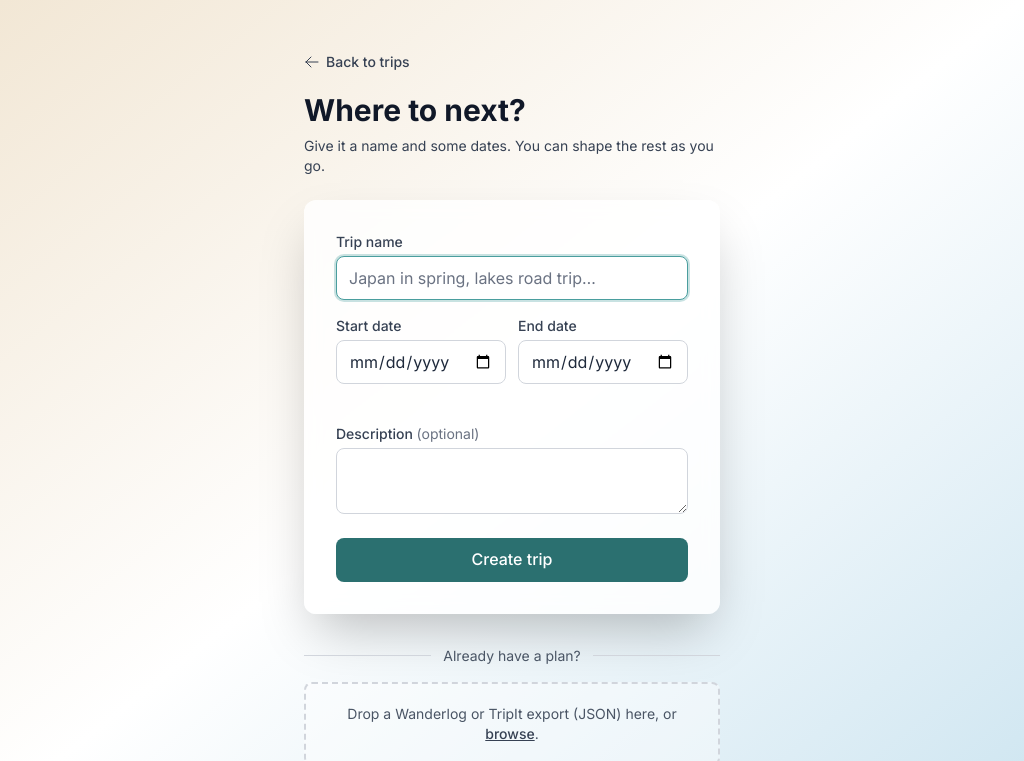
Test case: NewTripPage › requires a name before creating
The image size is (1024, 761).
Step 1. Click the button "Create trip" → point(512, 560), box [336,538,688,582]
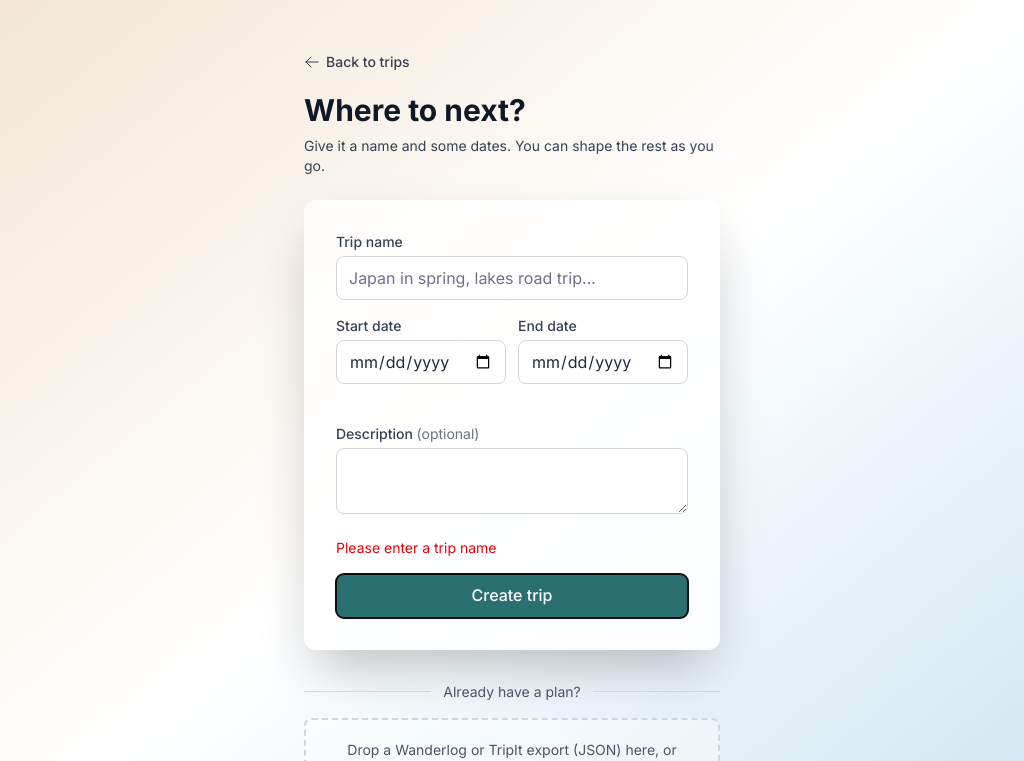
Result: the message shows "enter a trip name" at [336,539,496,556]
